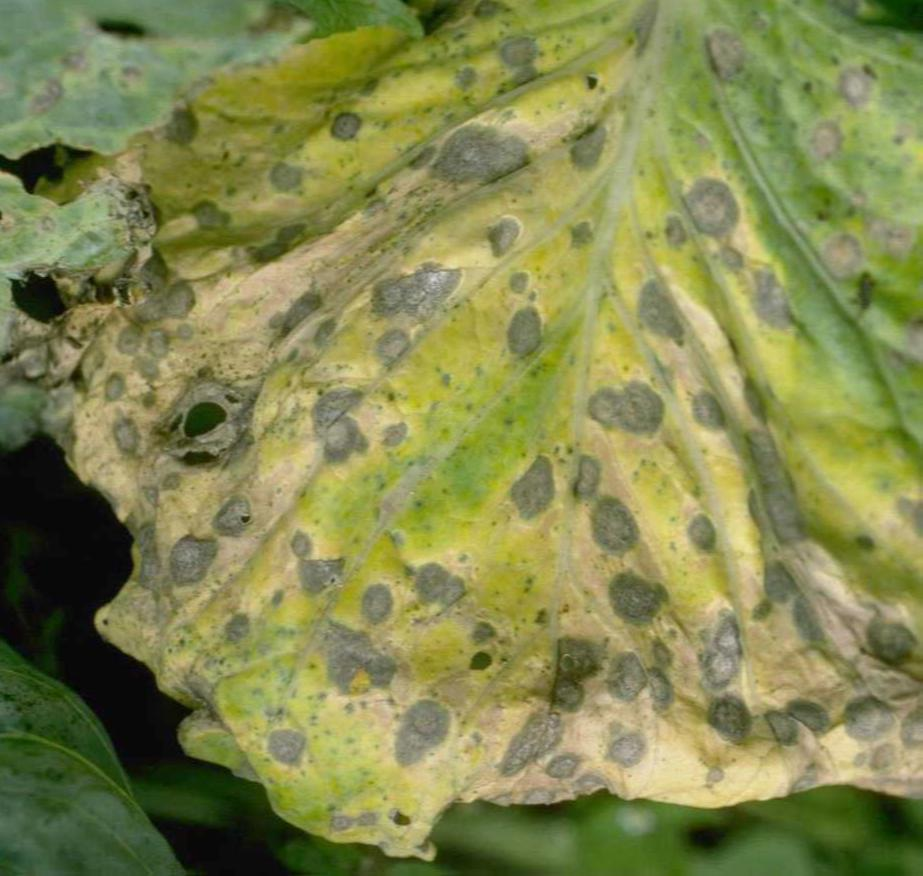Tomato leaf bacterial spot: (39, 0, 923, 851)
